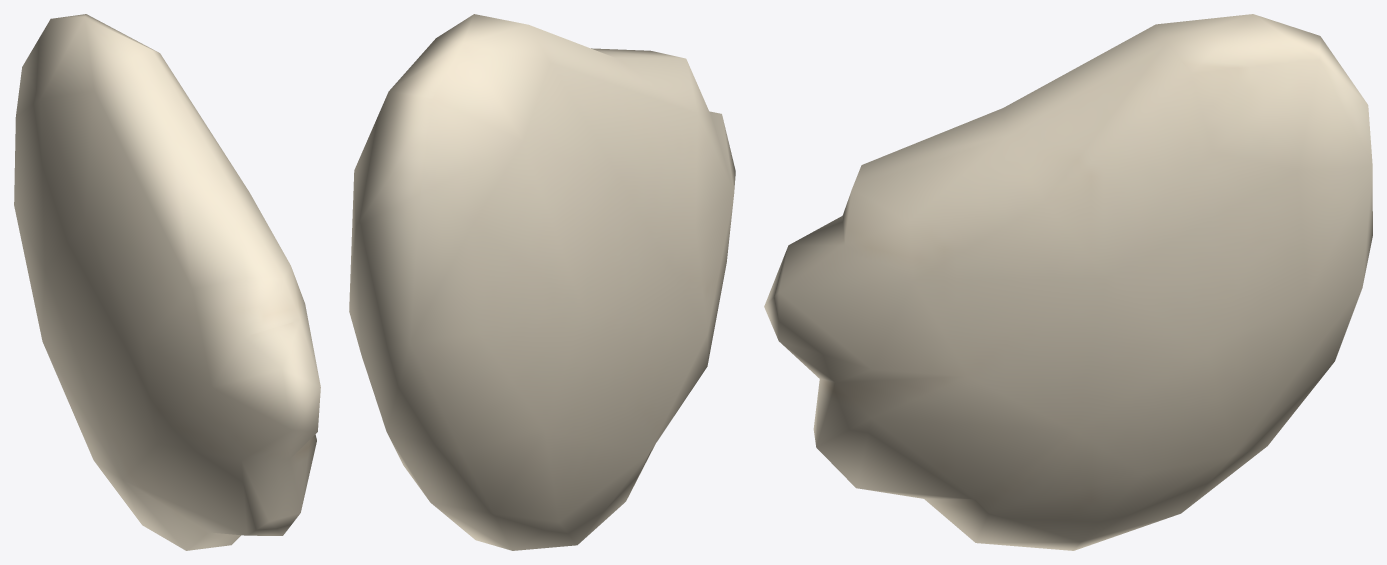
3 views of the same model, side by side, from view 1: azimuth 30°, elevation 25°; view 2: azimuth 150°, elevation 25°; view 3: azimuth 270°, elevation 25° (orthographic). The views are drawn at different scales.
Bounding box in the file's own units: 0.3694 × 1 × 1.05.
Materials: 1 (1 with a texture image).
